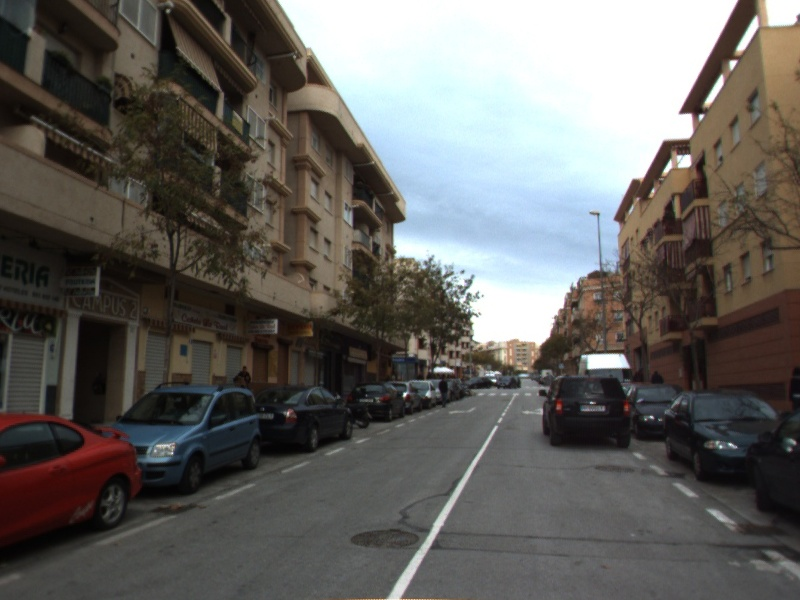STRAIGHT_LEFT: (520, 405, 545, 417)
